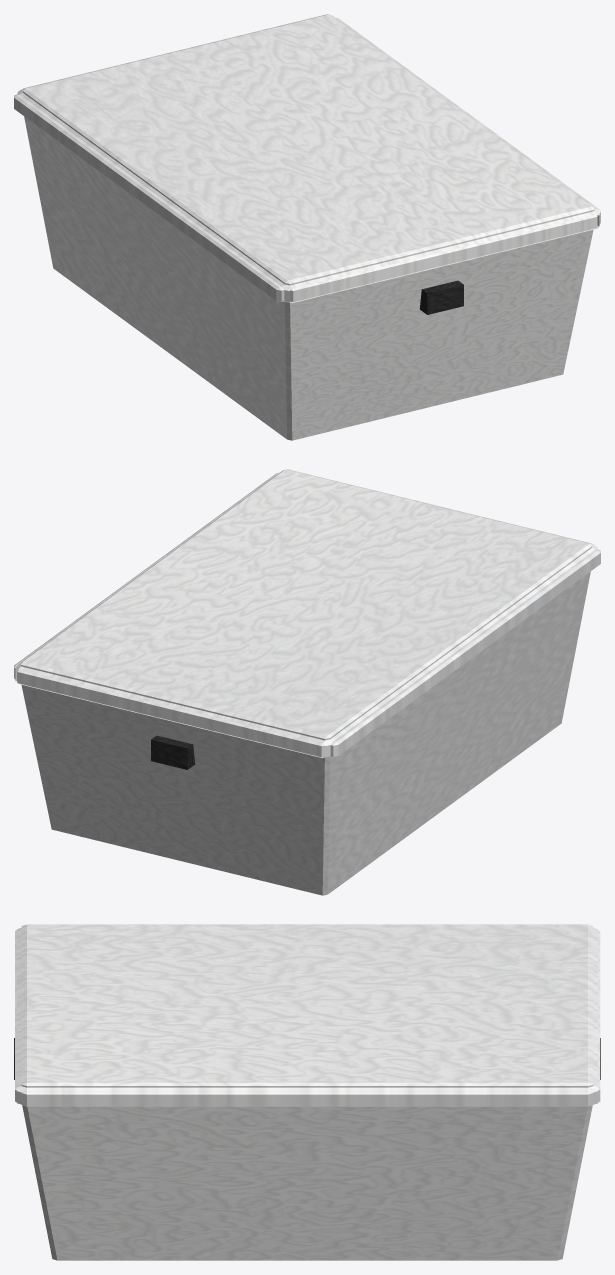
File: Caja.fbx
3 renders of one model, top to bottom at view 1: azimuth 30°, elevation 25°; view 2: azimuth 150°, elevation 25°; view 3: azimuth 270°, elevation 25°, orthographic. The views are drawn at different scales.
Parts seen in each view (by area): view 1: Cube.001; view 2: Cube.001; view 3: Cube.001.
Boxes of the visible parts, bbox=[...] form: Cube.001: bbox=[14, 14, 600, 440]; Cube.001: bbox=[14, 469, 600, 895]; Cube.001: bbox=[14, 924, 600, 1260].
Bounding box in the file's own units: 600 × 308 × 878.
Materials: 3 (3 with a texture image).
